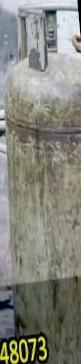cylinder: (1, 1, 81, 364)
